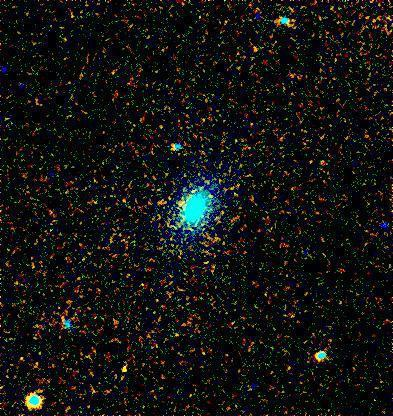star: (109, 354, 139, 384)
